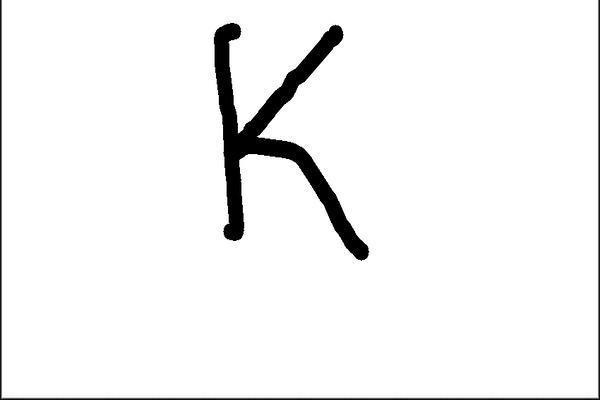K: (202, 15, 377, 268)
